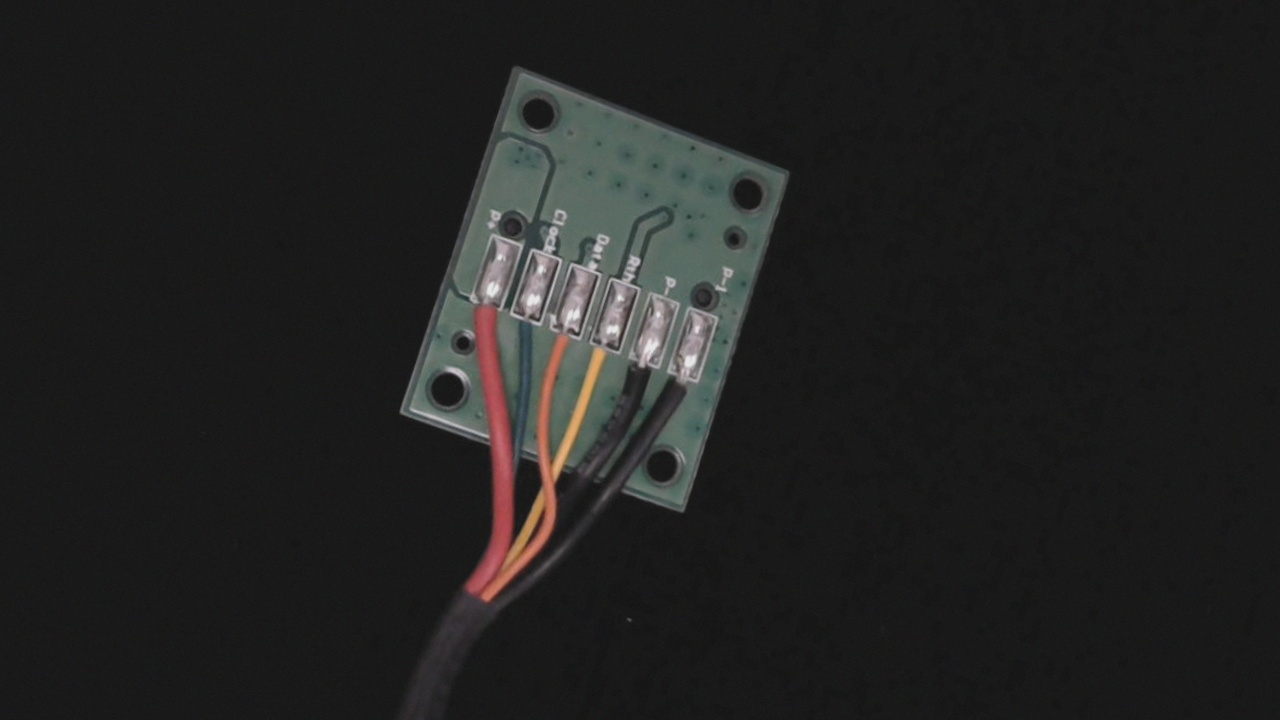Black: (611, 334, 672, 423)
Black1: (653, 352, 711, 434)
Green: (497, 293, 551, 368)
Orange: (532, 308, 591, 396)
Red: (452, 280, 512, 366)
Yellow: (567, 321, 628, 411)
